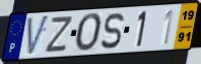1: (136, 10, 148, 48), (163, 10, 175, 46)
O: (74, 12, 104, 54)
S: (99, 11, 126, 51)
V: (26, 14, 51, 58)
Z: (43, 15, 75, 54)
